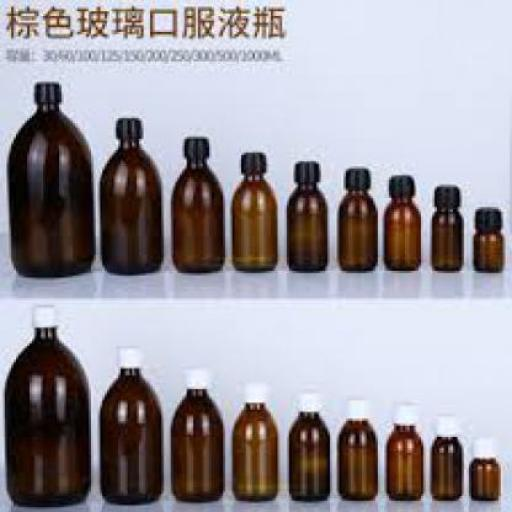glass: (4, 323, 90, 508), (6, 102, 94, 278), (98, 366, 159, 503), (98, 137, 159, 273), (170, 386, 224, 498), (170, 159, 221, 271), (228, 173, 276, 271), (232, 400, 278, 498), (286, 412, 328, 500), (334, 186, 376, 272), (287, 181, 325, 269), (338, 418, 376, 498), (384, 424, 422, 498), (383, 194, 418, 268), (430, 205, 460, 270), (430, 437, 460, 496), (471, 225, 500, 273), (469, 453, 496, 496)
plastic: (385, 170, 414, 194), (430, 184, 460, 207), (471, 204, 500, 226), (237, 148, 264, 171), (292, 159, 318, 182), (182, 136, 208, 158), (29, 303, 53, 325), (112, 112, 138, 132), (32, 80, 58, 100), (470, 435, 496, 455), (390, 400, 412, 422), (344, 166, 366, 187), (181, 366, 205, 385), (344, 398, 366, 417), (432, 415, 454, 434), (114, 346, 136, 364), (241, 380, 262, 398), (294, 394, 316, 410)
